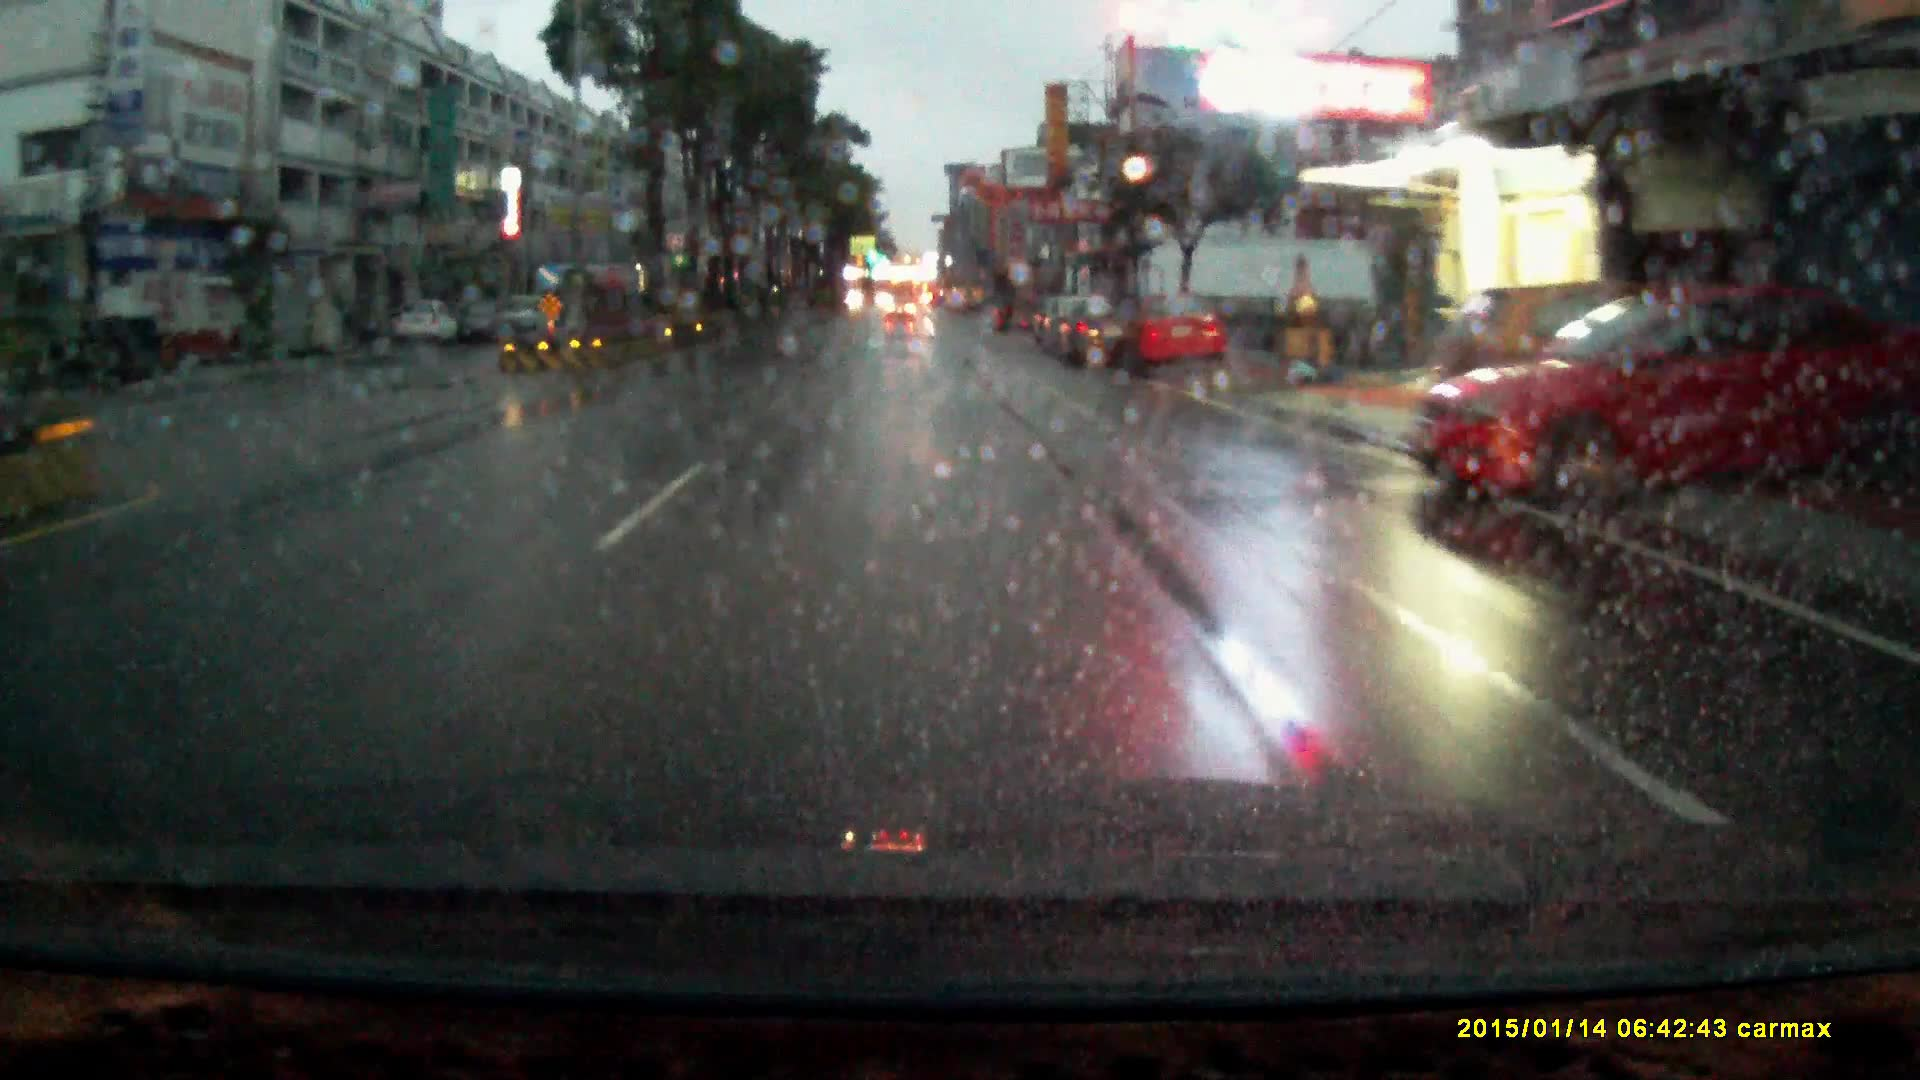vehicle: (1414, 276, 1855, 502), (1120, 287, 1233, 376), (1054, 291, 1129, 369), (393, 291, 463, 345), (498, 291, 567, 336), (1040, 289, 1062, 343), (886, 291, 918, 319)
